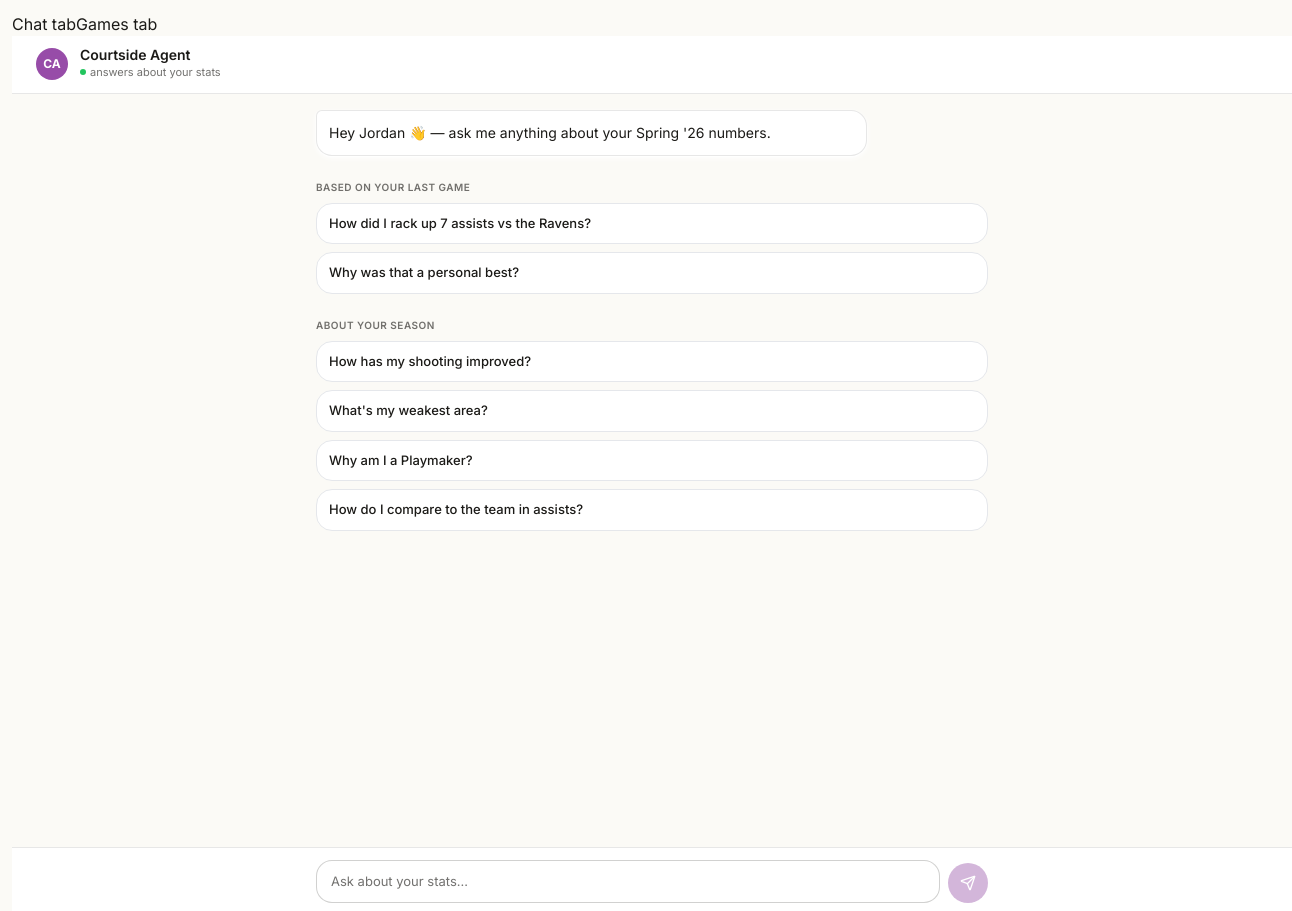
Test case: ChatRoute › lets the player rate a finished answer once
Type "Best game?" into the text box with placeholder "Ask about your stats…".
click(628, 882); type("Best game?")  # box [331, 871, 925, 892]
Then press Enter
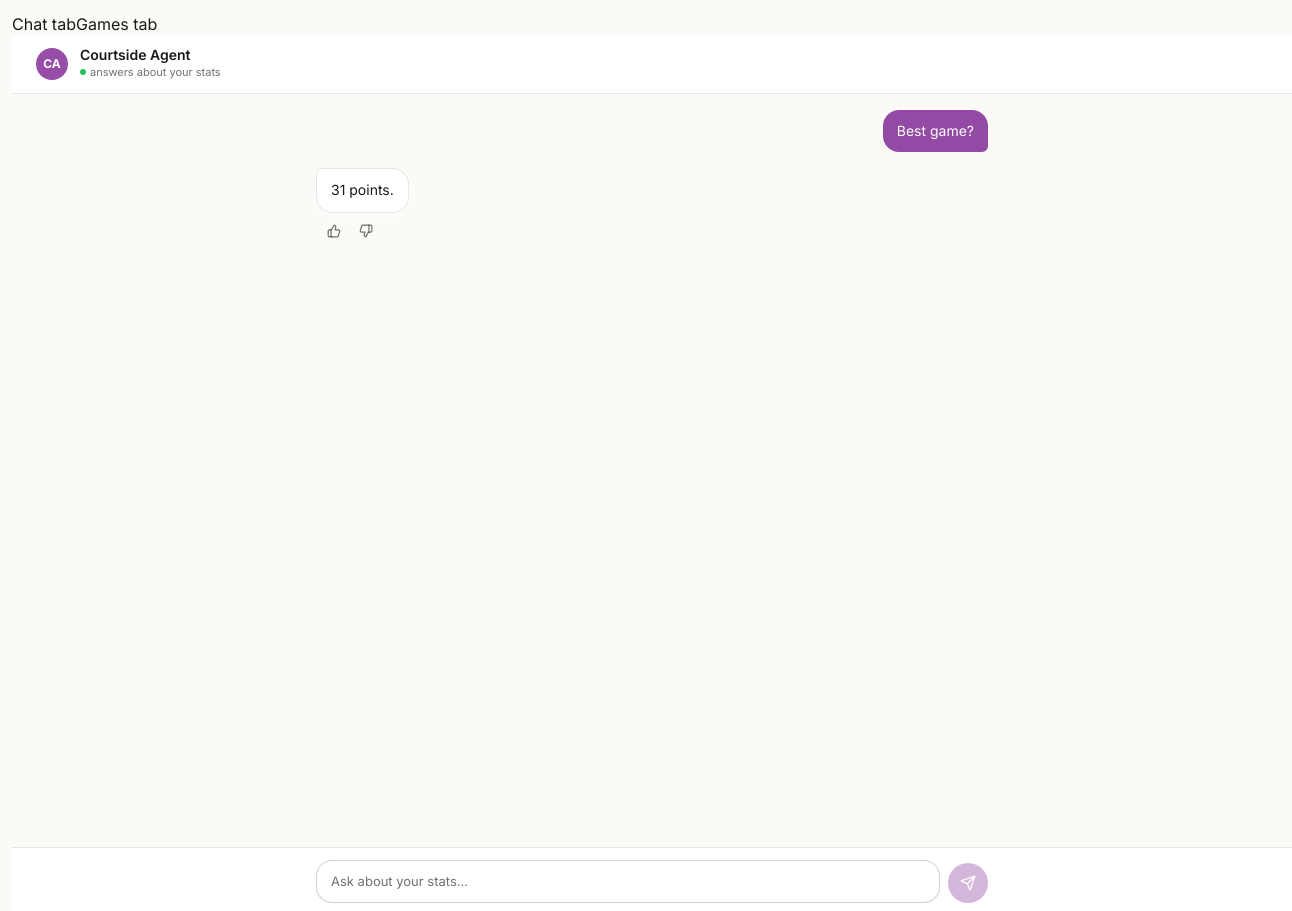
Expected: the text "31 points." is shown, [331, 179, 394, 202]
Click the button named "Bad answer".
click(366, 231)  # box [352, 217, 380, 245]
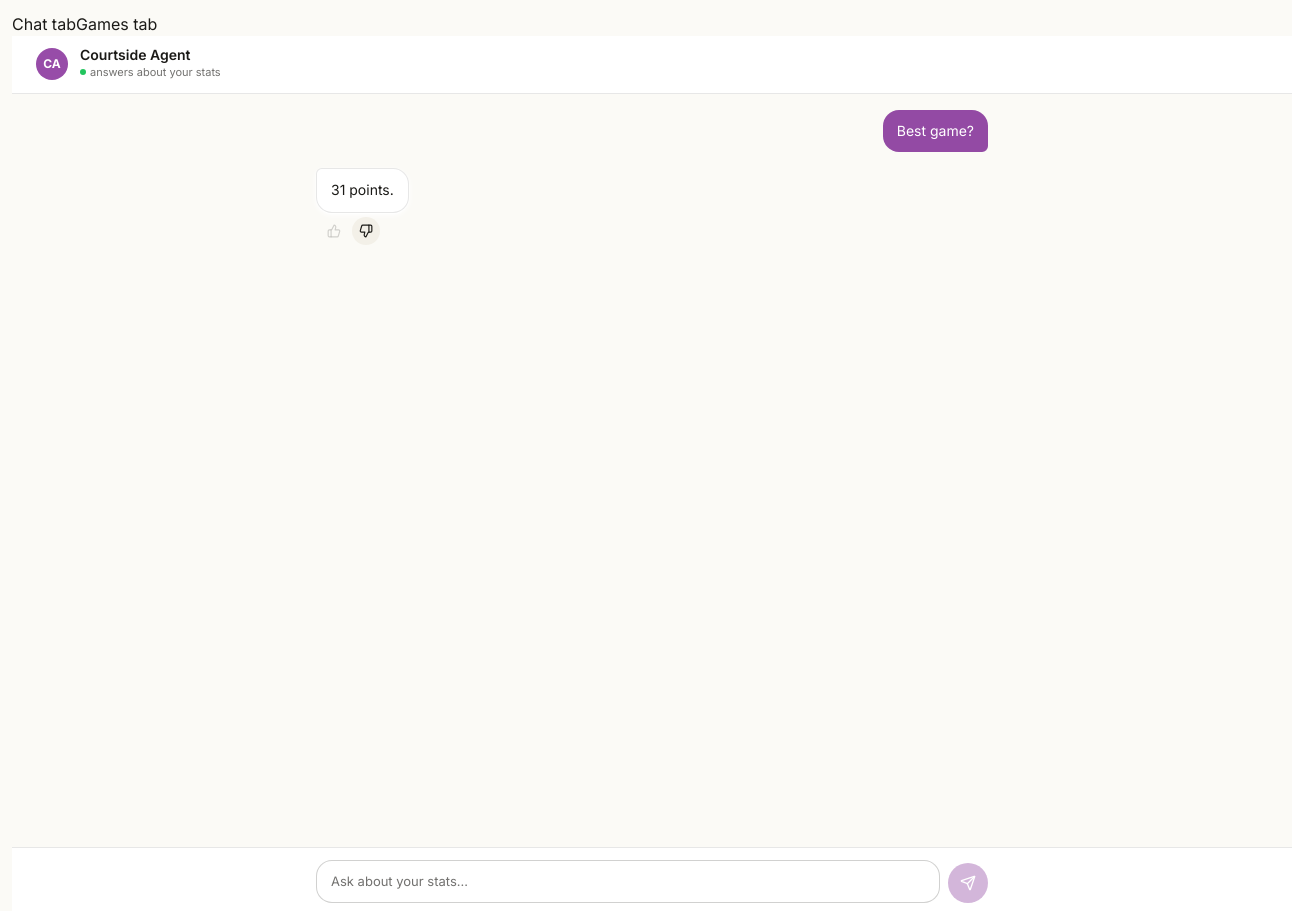
Expected: the button named "Good answer" is disabled, [320, 217, 348, 245]
